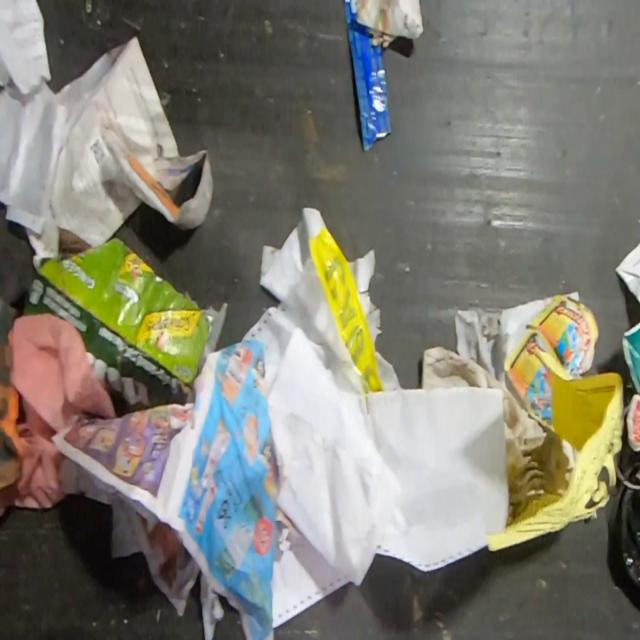cardboard: (20, 236, 230, 416), (48, 32, 214, 250), (343, 0, 394, 151), (354, 0, 424, 48)
metal: (615, 458, 640, 595)
soft_plastic: (307, 222, 386, 393)
